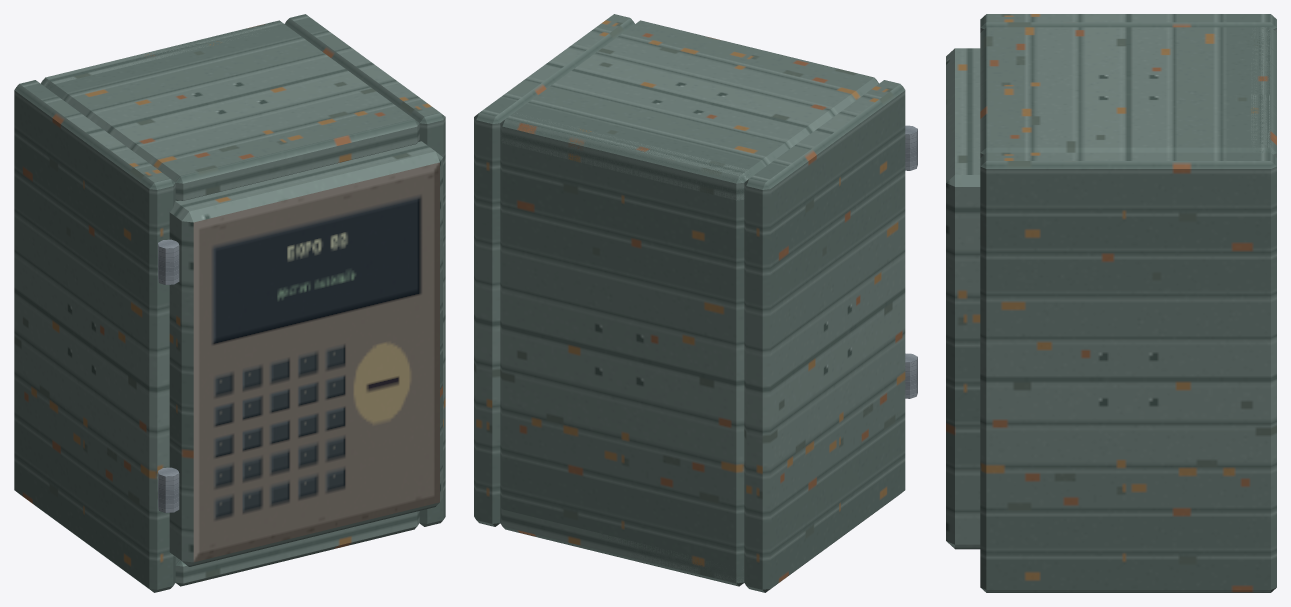
The model's file is MD_113_FamilySafe.fbx.
The picture shows the model from 3 angles, left to right: view 1: azimuth 30°, elevation 25°; view 2: azimuth 150°, elevation 25°; view 3: azimuth 270°, elevation 25°; orthographic projection. The views are drawn at different scales.
Parts seen in each view (by area): view 1: MD_113_FamilySafe_safe_hinged_door, MD_113_FamilySafe_safe_thick_side, MD_113_FamilySafe_safe_end.001, MD_113_FamilySafe_safe_thick_side.001, MD_113_FamilySafe_safe_end, MD_113_FamilySafe_safe_rear, MD_113_FamilySafe_safe_hinge, MD_113_FamilySafe_safe_hinge.001; view 2: MD_113_FamilySafe_safe_rear, MD_113_FamilySafe_safe_thick_side, MD_113_FamilySafe_safe_end.001, MD_113_FamilySafe_safe_thick_side.001, MD_113_FamilySafe_safe_end, MD_113_FamilySafe_safe_hinge, MD_113_FamilySafe_safe_hinge.001; view 3: MD_113_FamilySafe_safe_thick_side.001, MD_113_FamilySafe_safe_end.001, MD_113_FamilySafe_safe_hinged_door, MD_113_FamilySafe_safe_thick_side, MD_113_FamilySafe_safe_rear.
Part boxes in pixels (x1,y1,x2,y2): MD_113_FamilySafe_safe_hinged_door: (169, 141, 442, 566); MD_113_FamilySafe_safe_thick_side: (14, 80, 175, 592); MD_113_FamilySafe_safe_end.001: (41, 20, 419, 200); MD_113_FamilySafe_safe_thick_side.001: (285, 14, 445, 526); MD_113_FamilySafe_safe_end: (175, 511, 419, 586); MD_113_FamilySafe_safe_rear: (41, 21, 282, 200); MD_113_FamilySafe_safe_hinge: (158, 467, 179, 512); MD_113_FamilySafe_safe_hinge.001: (158, 239, 179, 284); MD_113_FamilySafe_safe_rear: (500, 113, 750, 586); MD_113_FamilySafe_safe_thick_side: (744, 80, 905, 592); MD_113_FamilySafe_safe_end.001: (500, 20, 878, 200); MD_113_FamilySafe_safe_thick_side.001: (474, 14, 634, 526); MD_113_FamilySafe_safe_end: (501, 508, 743, 582); MD_113_FamilySafe_safe_hinge: (905, 353, 917, 398); MD_113_FamilySafe_safe_hinge.001: (905, 125, 917, 170); MD_113_FamilySafe_safe_thick_side.001: (980, 152, 1276, 592); MD_113_FamilySafe_safe_end.001: (980, 27, 1276, 157); MD_113_FamilySafe_safe_hinged_door: (946, 48, 980, 549); MD_113_FamilySafe_safe_thick_side: (980, 14, 1276, 32); MD_113_FamilySafe_safe_rear: (1251, 27, 1275, 155).
Bounding box in the file's own units: 0.682 × 0.9 × 0.625.
3 materials, 3 textured.
